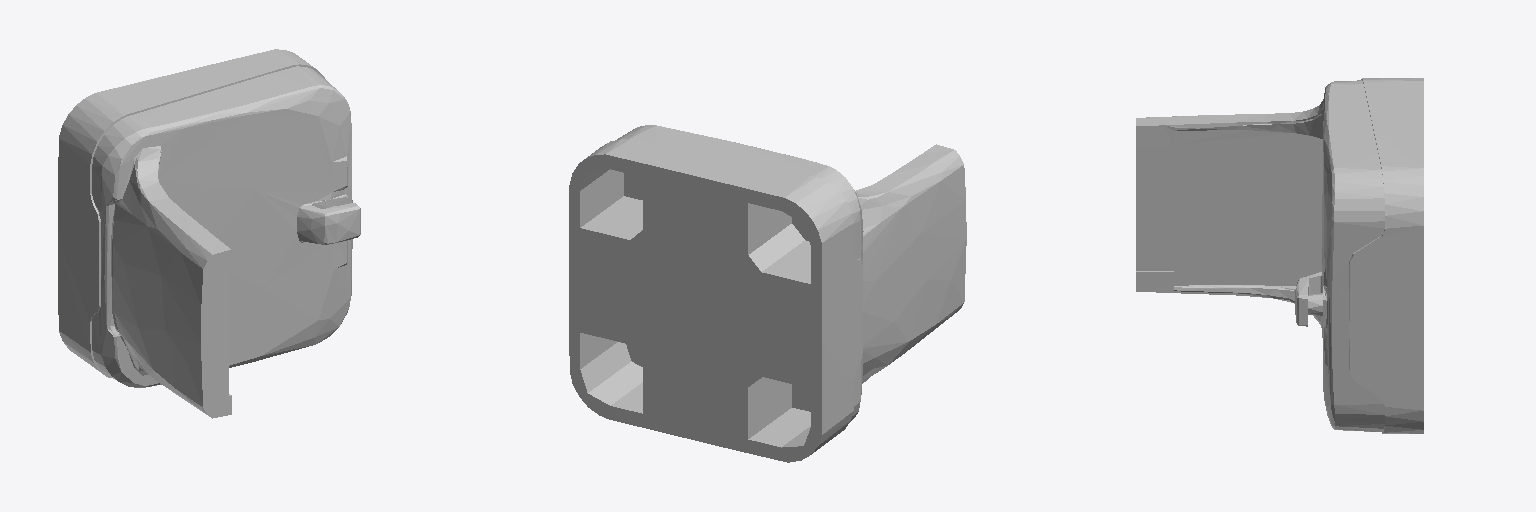
3 renders of one model, left to right at view 1: azimuth 30°, elevation 25°; view 2: azimuth 150°, elevation 25°; view 3: azimuth 270°, elevation 25°, orthographic.
Parts seen in each view (by area): view 1: base2_M1K_base2_M1KShape; view 2: base2_M1K_base2_M1KShape; view 3: base2_M1K_base2_M1KShape.
Part boxes in pixels (x1,y1,x2,y2): base2_M1K_base2_M1KShape: (58, 49, 360, 418); base2_M1K_base2_M1KShape: (569, 125, 966, 462); base2_M1K_base2_M1KShape: (1136, 78, 1423, 433).
Size of the model in its own units: 0.6694 by 0.6668 by 0.6562.